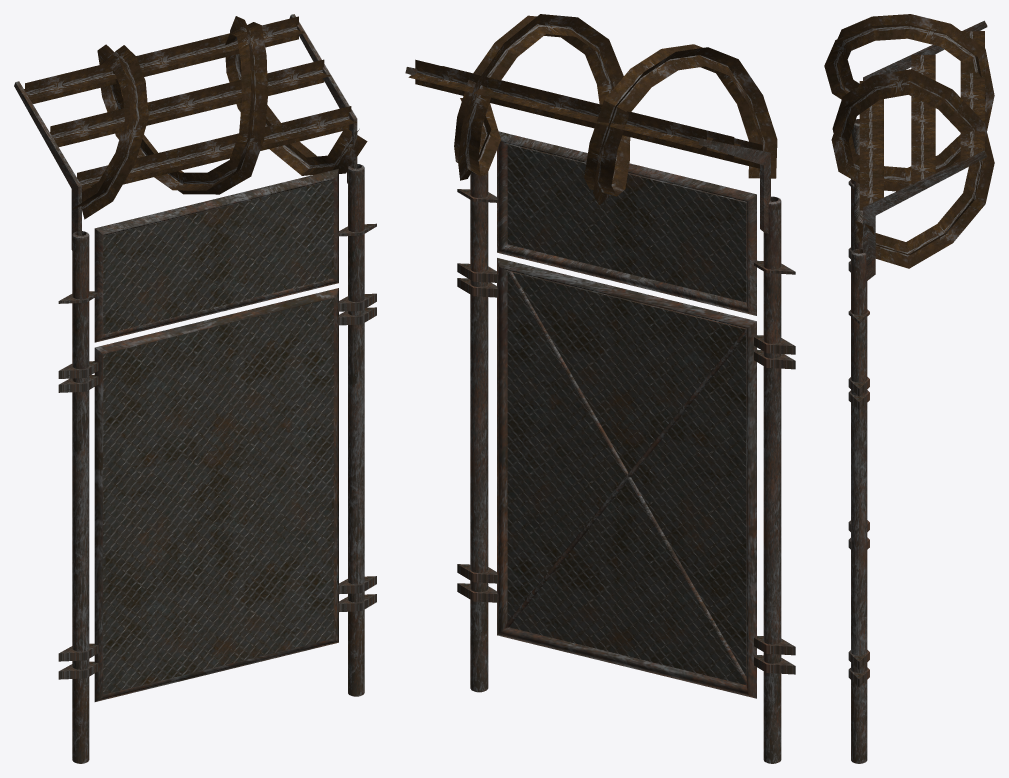
The model's file is Fence_metal_05.FBX.
The picture shows the model from 3 angles, left to right: view 1: azimuth 30°, elevation 25°; view 2: azimuth 150°, elevation 25°; view 3: azimuth 270°, elevation 25°; orthographic projection. The views are drawn at different scales.
Parts seen in each view (by area): view 1: Fence_metal_door_grid_05, Fence_metal_05, Fence_metal_wire_005, Fence_metal_grid_05, Fence_metal_door_05; view 2: Fence_metal_door_grid_05, Fence_metal_05, Fence_metal_wire_005, Fence_metal_grid_05, Fence_metal_door_05; view 3: Fence_metal_wire_005, Fence_metal_05.
Part boxes in pixels (x1,y1,x2,y2): Fence_metal_door_grid_05: [103, 298, 333, 694]; Fence_metal_05: [14, 14, 376, 763]; Fence_metal_wire_005: [24, 16, 367, 219]; Fence_metal_grid_05: [103, 180, 333, 334]; Fence_metal_door_05: [94, 288, 338, 701]; Fence_metal_door_grid_05: [507, 271, 746, 684]; Fence_metal_05: [405, 67, 795, 763]; Fence_metal_wire_005: [408, 14, 777, 205]; Fence_metal_grid_05: [507, 144, 746, 302]; Fence_metal_door_05: [497, 258, 756, 698]; Fence_metal_wire_005: [824, 14, 994, 268]; Fence_metal_05: [848, 20, 987, 763].
Bounding box in the file's own units: 145 × 295 × 69.78.
